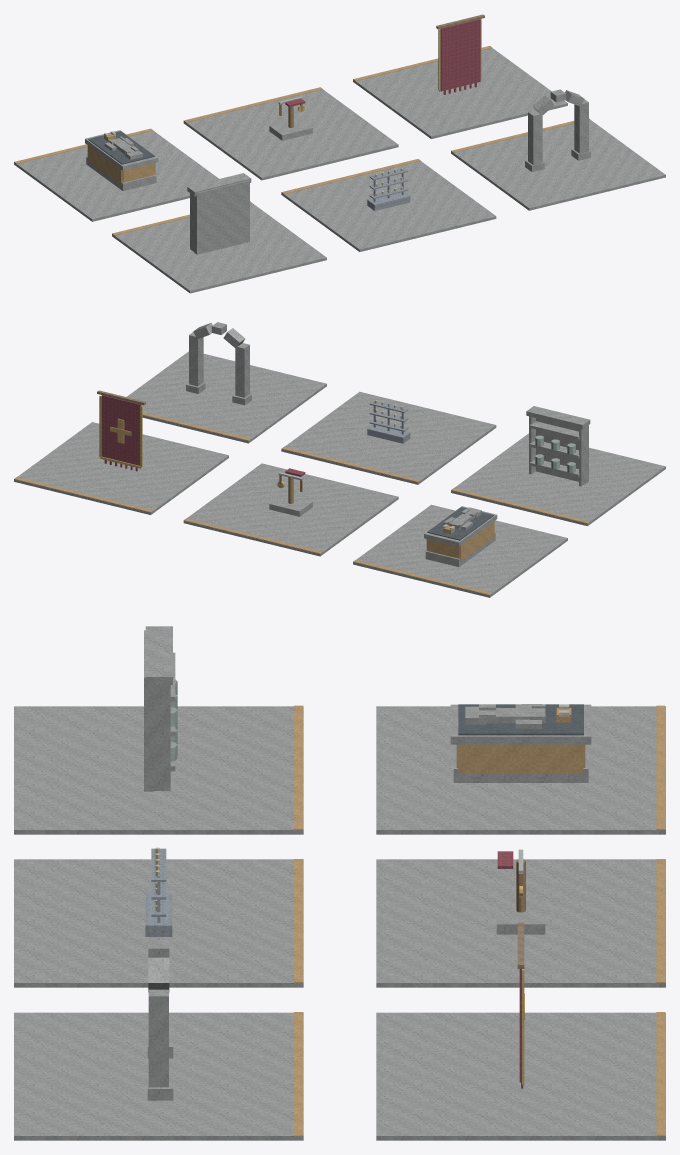
File: level_blockout_kit_wld_10_p04.glb
The picture shows the model from 3 angles, top to bottom: view 1: azimuth 30°, elevation 25°; view 2: azimuth 150°, elevation 25°; view 3: azimuth 270°, elevation 25°; orthographic projection. The views are drawn at different scales.
Visible parts, largest first — view 1: level_blockout_kit_wld_10_p04; view 2: level_blockout_kit_wld_10_p04; view 3: level_blockout_kit_wld_10_p04.
Part boxes in pixels (bbox=[...]): level_blockout_kit_wld_10_p04: bbox=[14, 14, 665, 293]; level_blockout_kit_wld_10_p04: bbox=[14, 322, 665, 597]; level_blockout_kit_wld_10_p04: bbox=[14, 626, 665, 1140].
Bounding box in the file's own units: 19.65 × 2.88 × 12.6.
12 materials, 12 textured.
